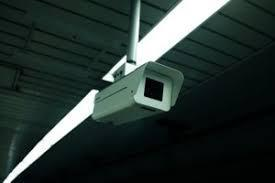Monitor: (89, 45, 200, 140)
